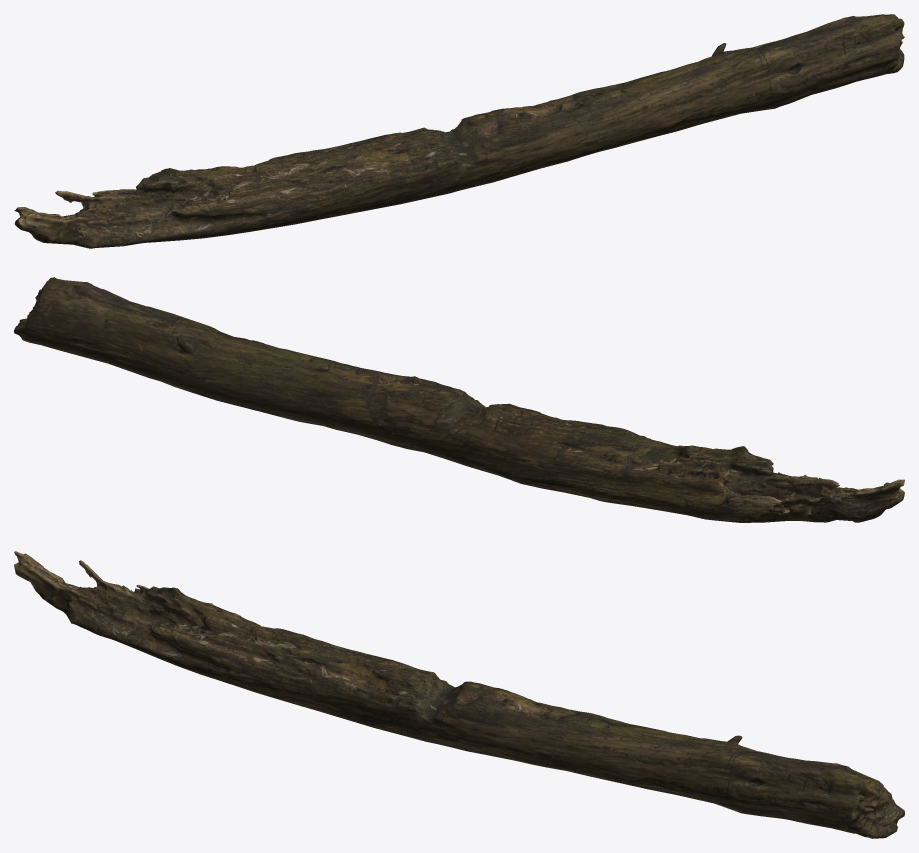
The picture shows the model from 3 angles, top to bottom: view 1: azimuth 30°, elevation 25°; view 2: azimuth 150°, elevation 25°; view 3: azimuth 330°, elevation 25°; orthographic projection.
Visible parts, largest first — view 1: dead_tree_trunk_lod0; view 2: dead_tree_trunk_lod0; view 3: dead_tree_trunk_lod0.
Boxes of the visible parts, box(x1,y1,x2,y2) form: dead_tree_trunk_lod0: box(14, 14, 904, 248); dead_tree_trunk_lod0: box(14, 277, 904, 522); dead_tree_trunk_lod0: box(14, 551, 904, 838).
Size of the model in its own units: 3.05 by 0.287 by 0.2769.
1 material, 1 textured.
